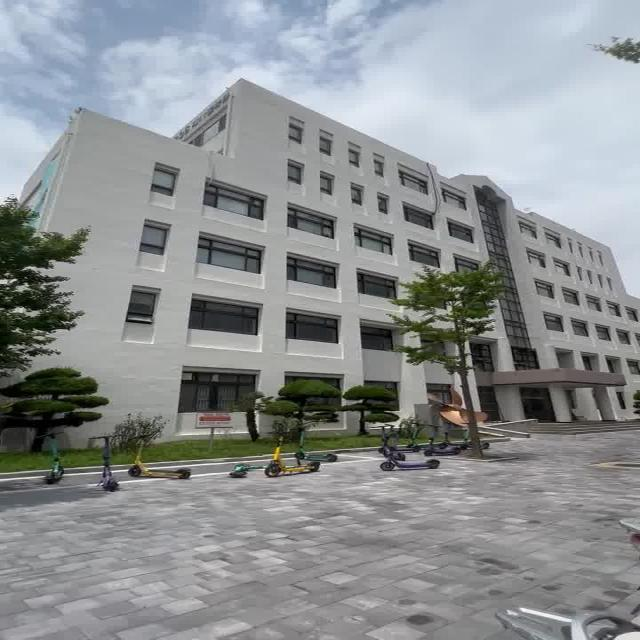building: (55, 87, 409, 384)
